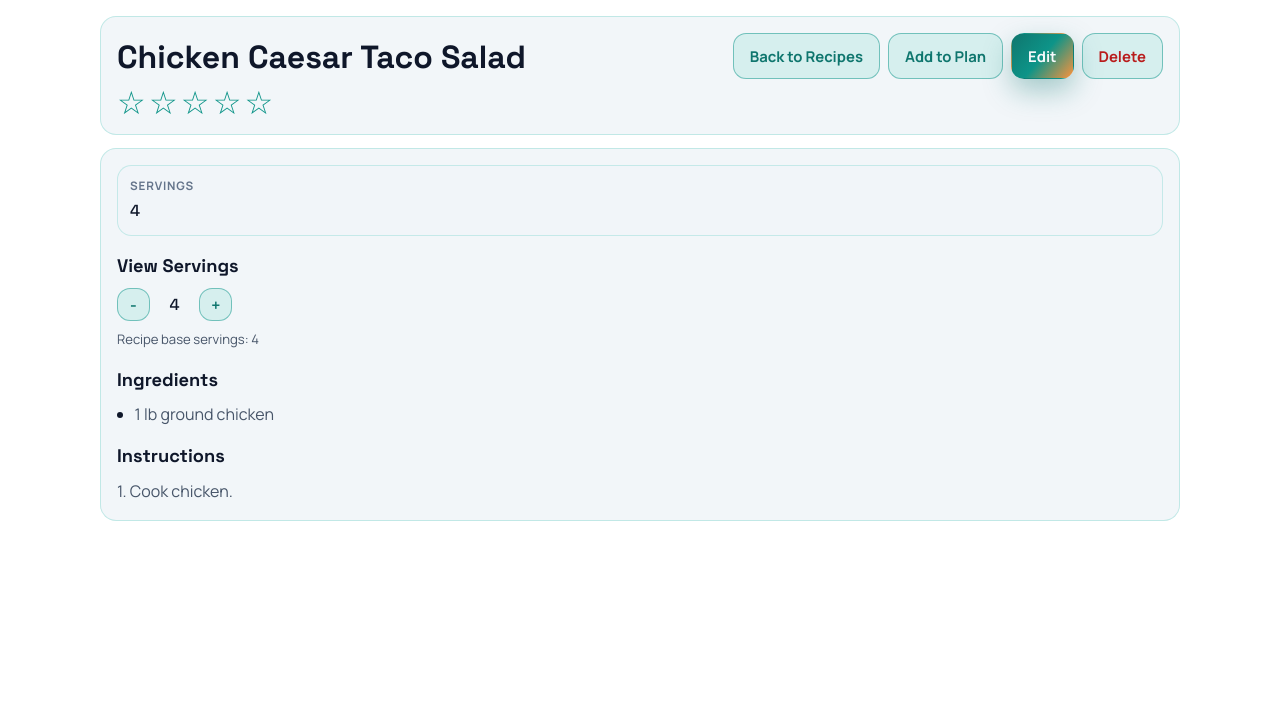
Test: RecipeDetailPage › adds the recipe to the meal plan from the detail page
This screenshot has width=1280, height=720.
Expected: the heading "Chicken Caesar Taco Salad" is shown, x1=117 y1=33 x2=526 y2=81
What coordinates should you click on to do the following:
click the button "Add to Plan"
I would click on:
 (946, 56)
Its box is x1=888 y1=33 x2=1003 y2=79.
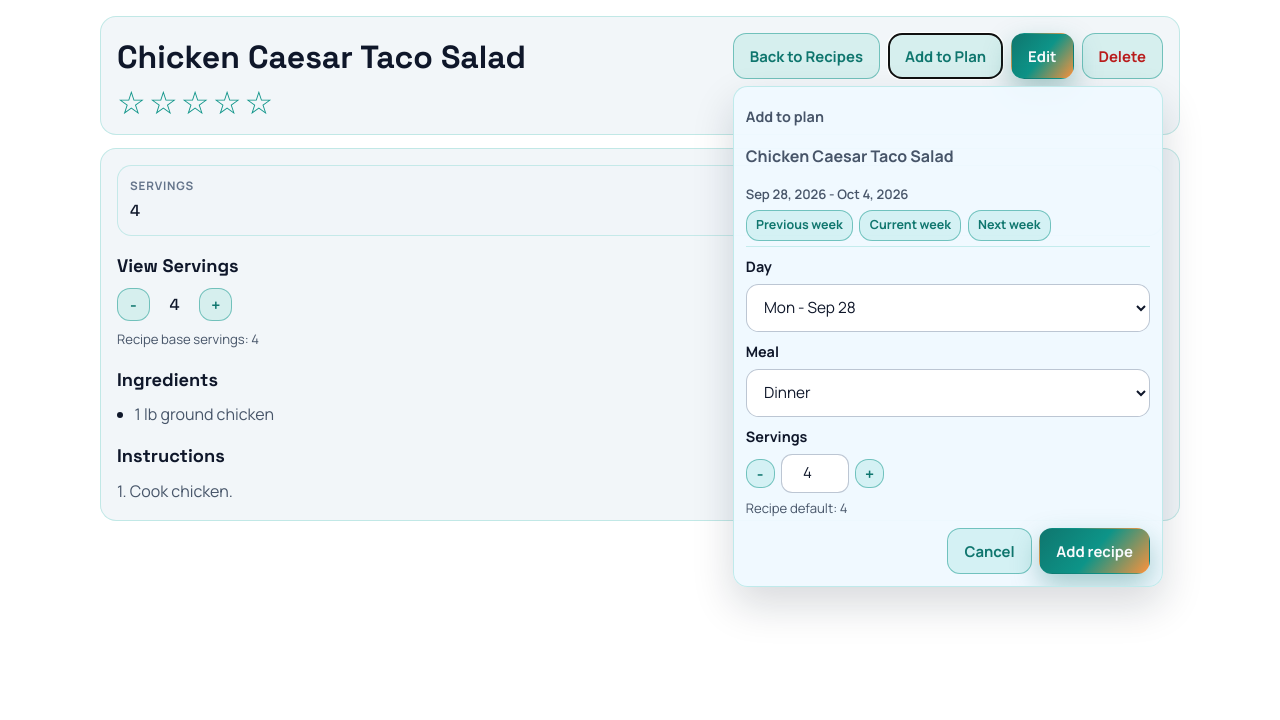
Expected: the heading "Chicken Caesar Taco Salad" is shown, x1=117 y1=33 x2=526 y2=81
Now the dialog is shown, box x1=733 y1=86 x2=1163 y2=587
What coordinates should you click on to do the following:
click the button "Add recipe"
I would click on:
 (1095, 551)
Its box is x1=1039 y1=528 x2=1150 y2=574.
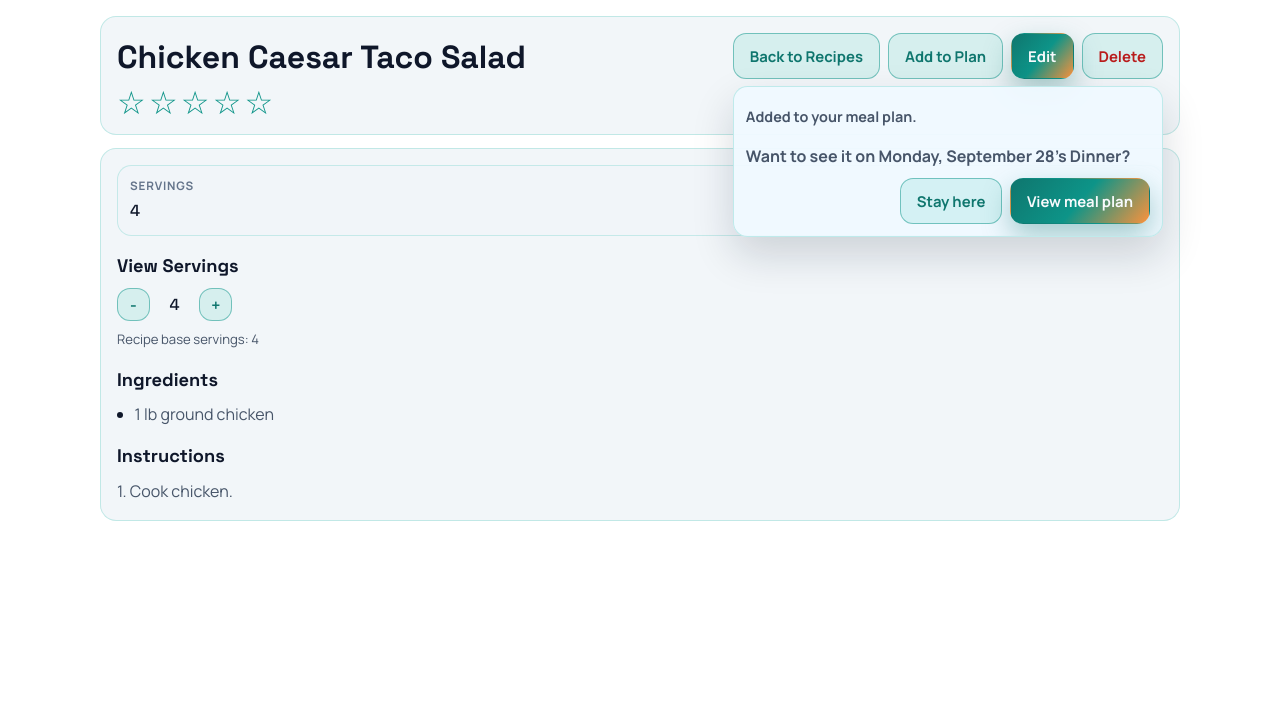
Now the text "Added to your meal plan." is shown, box x1=746 y1=107 x2=917 y2=126
